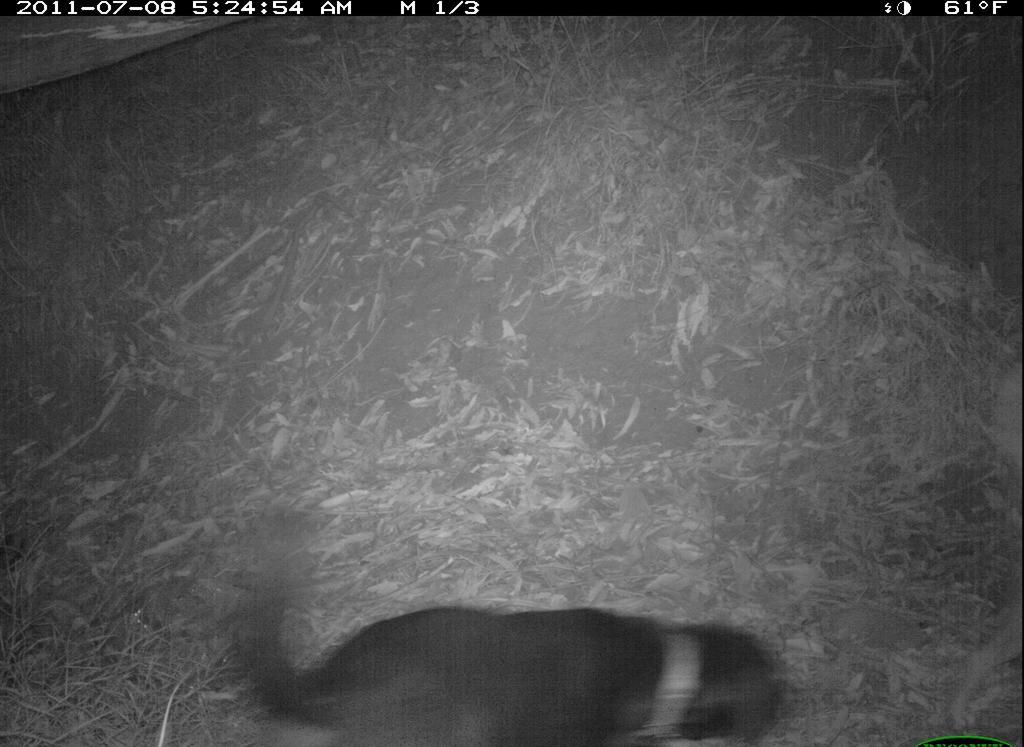dog: (209, 555, 818, 747)
